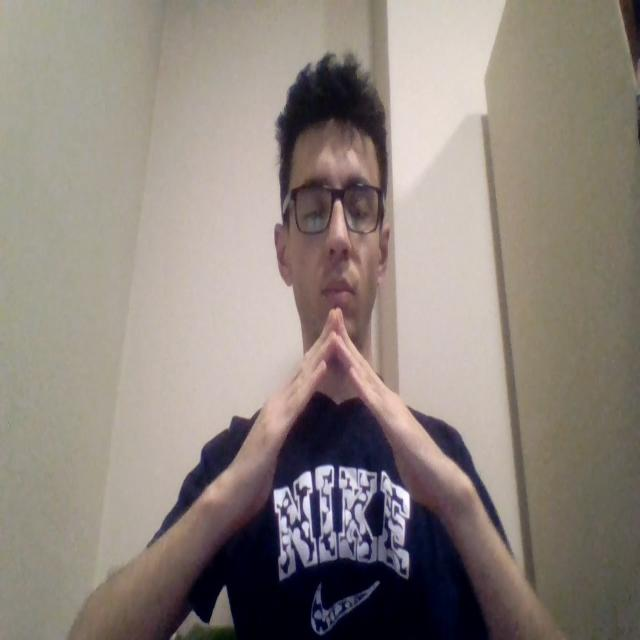house: (221, 307, 450, 512)
